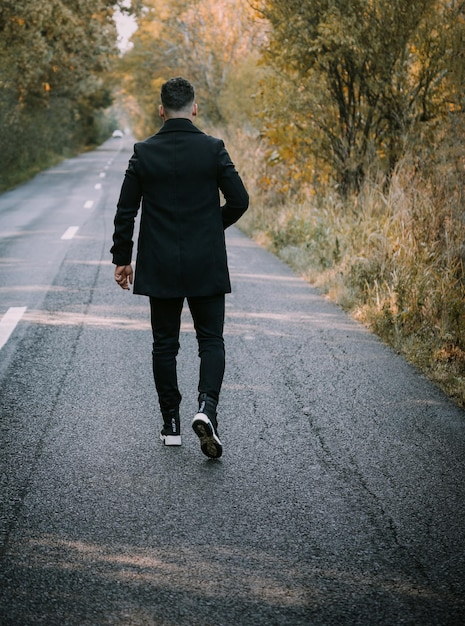Person: (116, 78, 251, 469)
